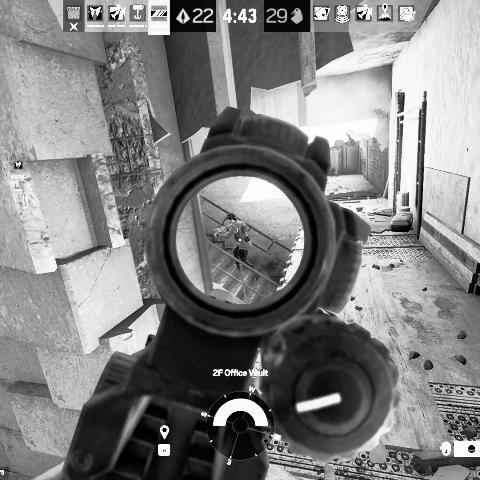Character: (208, 212, 260, 282)
Friend_label: (9, 160, 27, 180)
Head: (226, 213, 236, 223)
